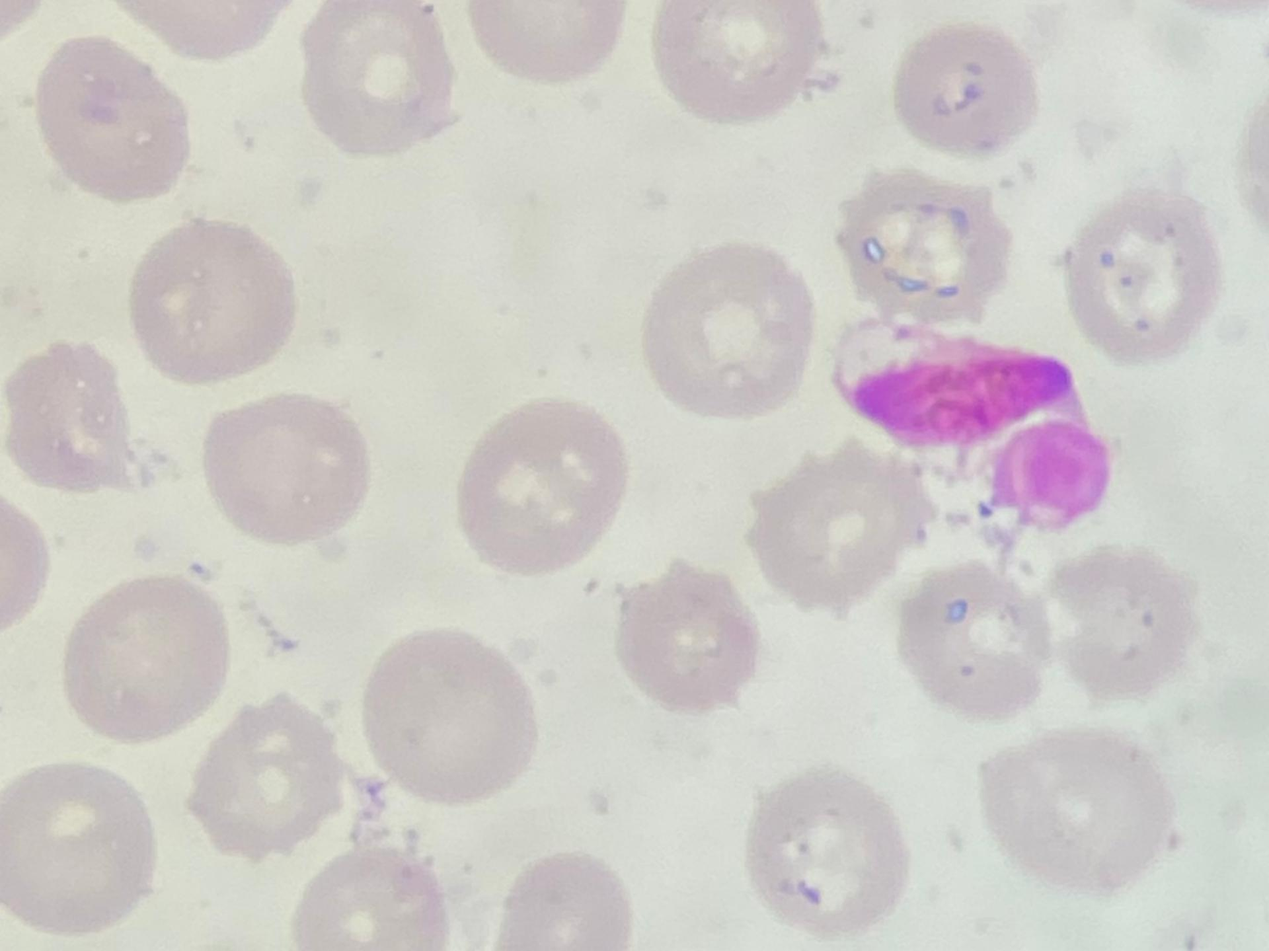Infected: (841, 340, 1072, 437)
Uninfected: (980, 729, 1173, 894), (360, 632, 537, 805), (648, 243, 820, 417), (747, 445, 927, 611), (455, 402, 626, 574), (746, 769, 911, 938), (835, 171, 1013, 326), (63, 576, 229, 741), (1062, 188, 1222, 359), (128, 221, 295, 381), (0, 763, 156, 934), (186, 695, 345, 859), (35, 34, 190, 202), (200, 395, 369, 547), (896, 560, 1051, 716), (300, 1, 457, 155), (1046, 546, 1198, 699), (613, 565, 759, 713), (3, 342, 141, 495), (655, 1, 822, 122), (892, 23, 1040, 157)
